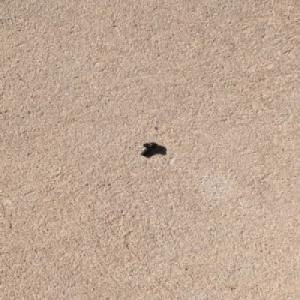BoltWasher: (139, 142, 160, 155)
